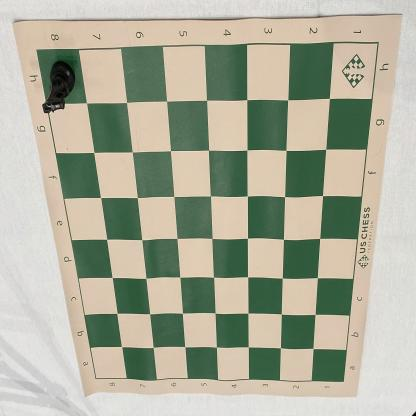black-knight: (42, 61, 76, 113)
